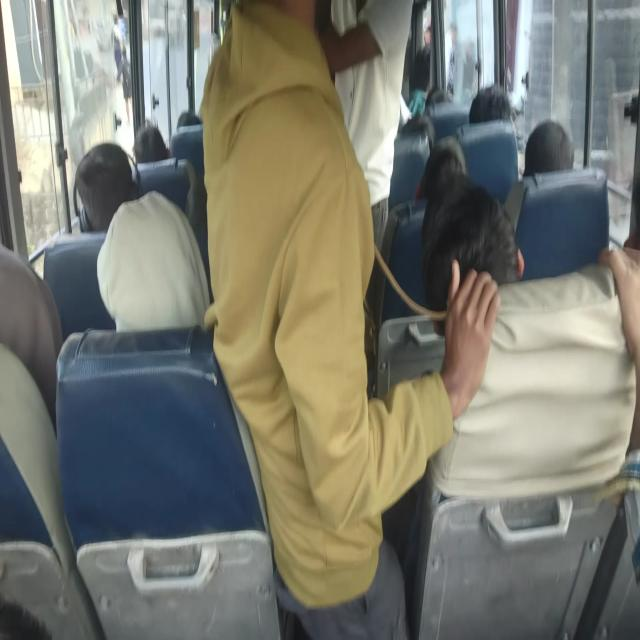person: (199, 0, 502, 638), (420, 172, 639, 499), (315, 1, 414, 322), (96, 189, 211, 332), (421, 173, 524, 324), (73, 141, 140, 233), (415, 135, 468, 200), (523, 118, 574, 176), (468, 84, 512, 124), (133, 123, 171, 163)
